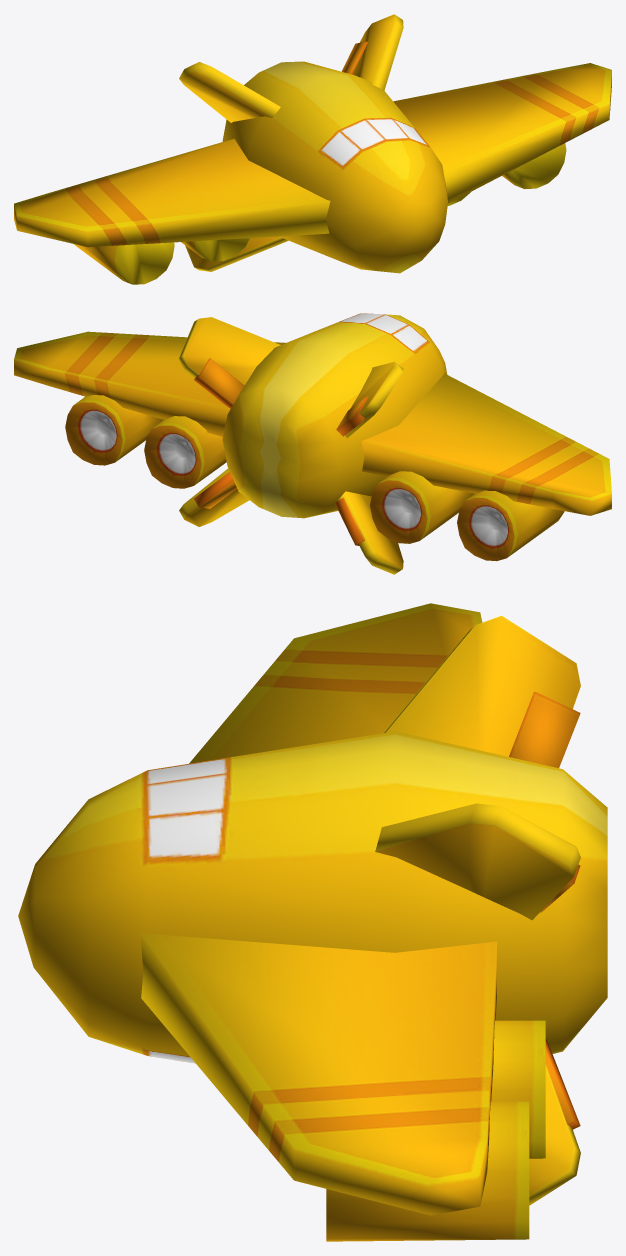
3 views of the same model, one above another, from view 1: azimuth 30°, elevation 25°; view 2: azimuth 150°, elevation 25°; view 3: azimuth 270°, elevation 25° (orthographic). The views are drawn at different scales.
Visible parts, largest first — view 1: GoldPlane; view 2: GoldPlane; view 3: GoldPlane.
Boxes of the visible parts, x1,y1,x2,y2 form: GoldPlane: [14, 14, 611, 284]; GoldPlane: [14, 313, 611, 574]; GoldPlane: [18, 603, 607, 1241].
Bounding box in the file's own units: 48.56 × 16.28 × 20.84.
